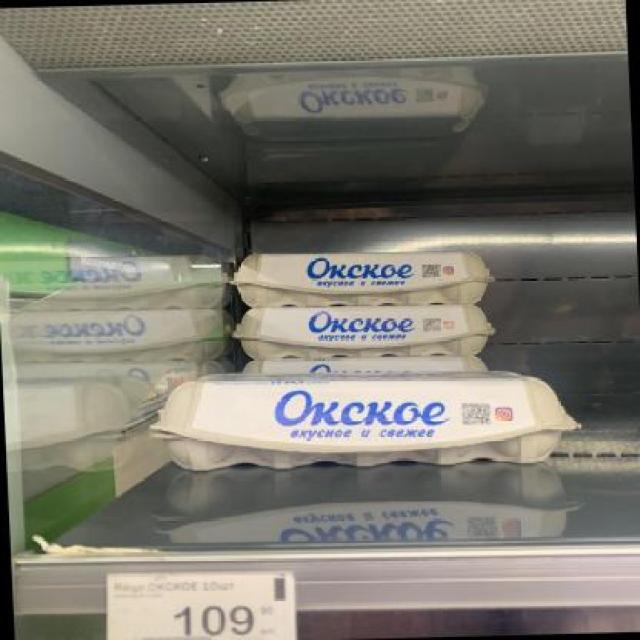egg: (138, 362, 594, 480), (222, 244, 492, 313), (222, 302, 494, 360)
